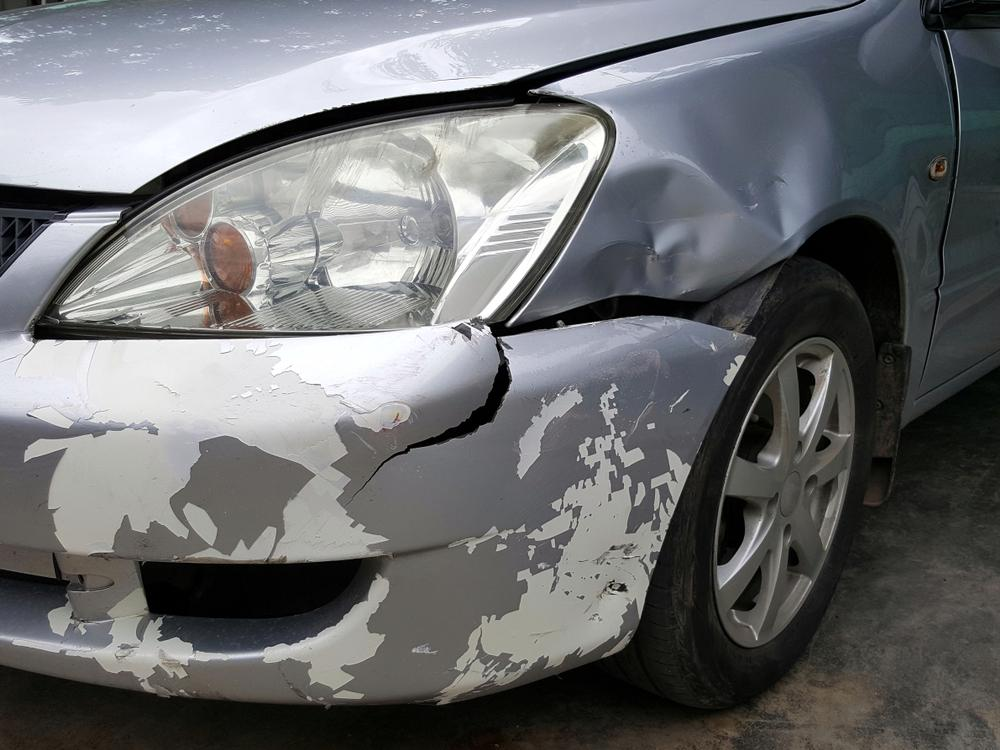crack: (583, 62, 828, 296), (342, 339, 514, 508)
scratch: (28, 340, 692, 704)
